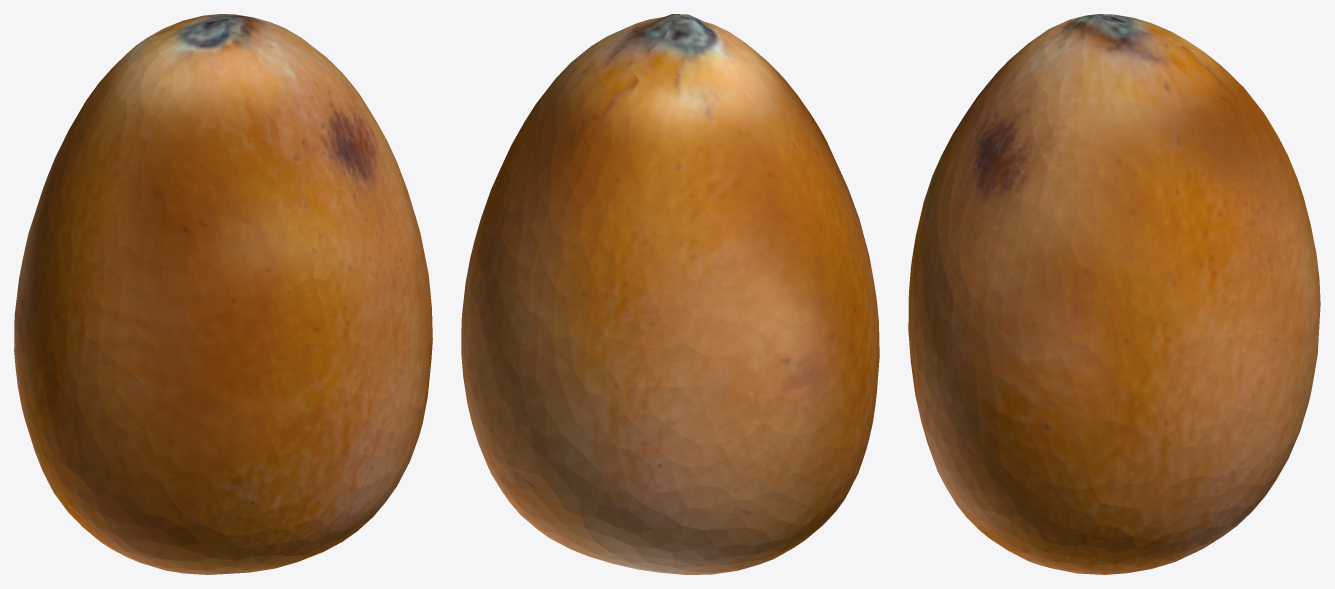
Rendered from loquat.glb.
3 views of the same model, side by side, from view 1: azimuth 30°, elevation 25°; view 2: azimuth 150°, elevation 25°; view 3: azimuth 270°, elevation 25° (orthographic).
Visible parts, largest first — view 1: loquatFruit; view 2: loquatFruit; view 3: loquatFruit.
Part boxes in pixels (x1,y1,x2,y2): loquatFruit: (14, 14, 432, 574); loquatFruit: (461, 14, 879, 574); loquatFruit: (908, 14, 1320, 574).
Bounding box in the file's own units: 0.4676 × 0.6414 × 0.4588.
Materials: 1 (1 with a texture image).
